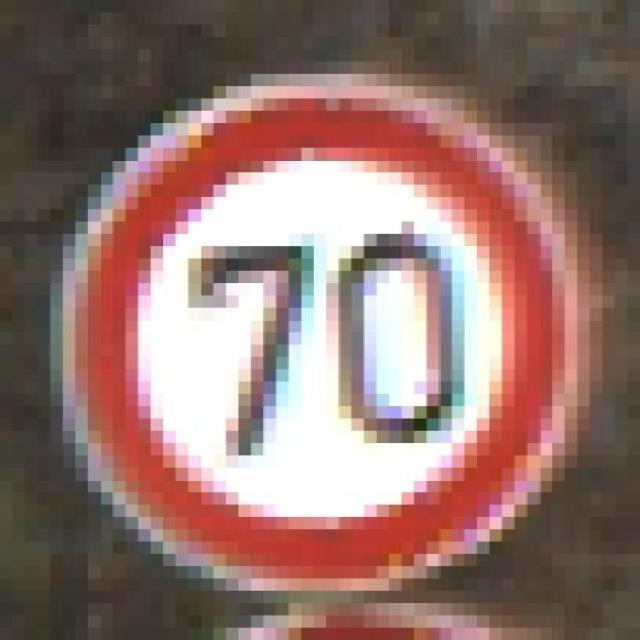forb_speed_over_70: (70, 80, 576, 586)
